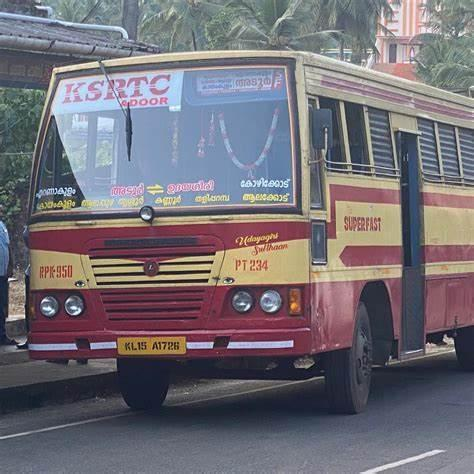Bus: (25, 55, 473, 416)
